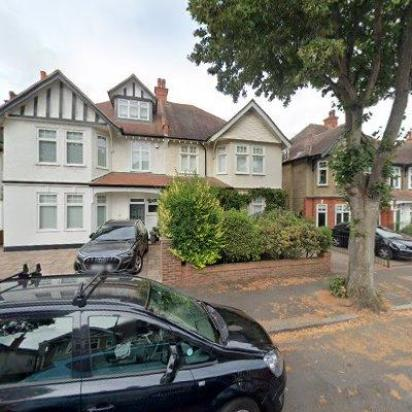moving-car: (0, 262, 288, 412)
stationary-car-offstreet: (74, 217, 150, 276), (330, 218, 412, 262)
